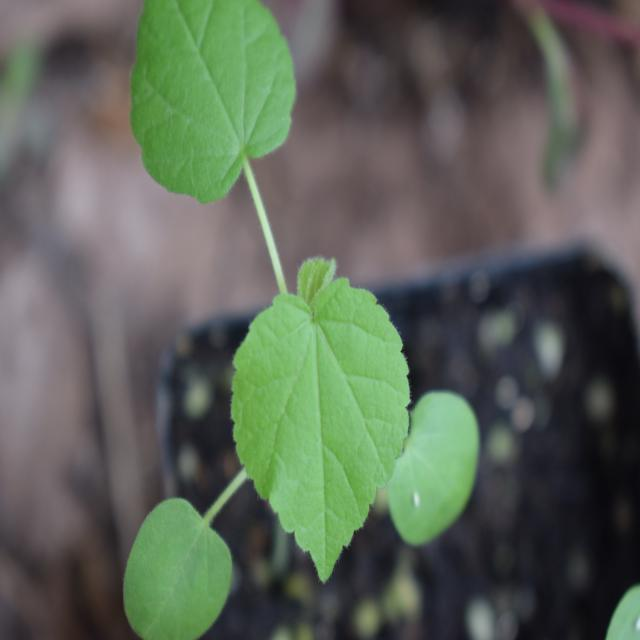abutilon theophrasti: (100, 2, 457, 610)
